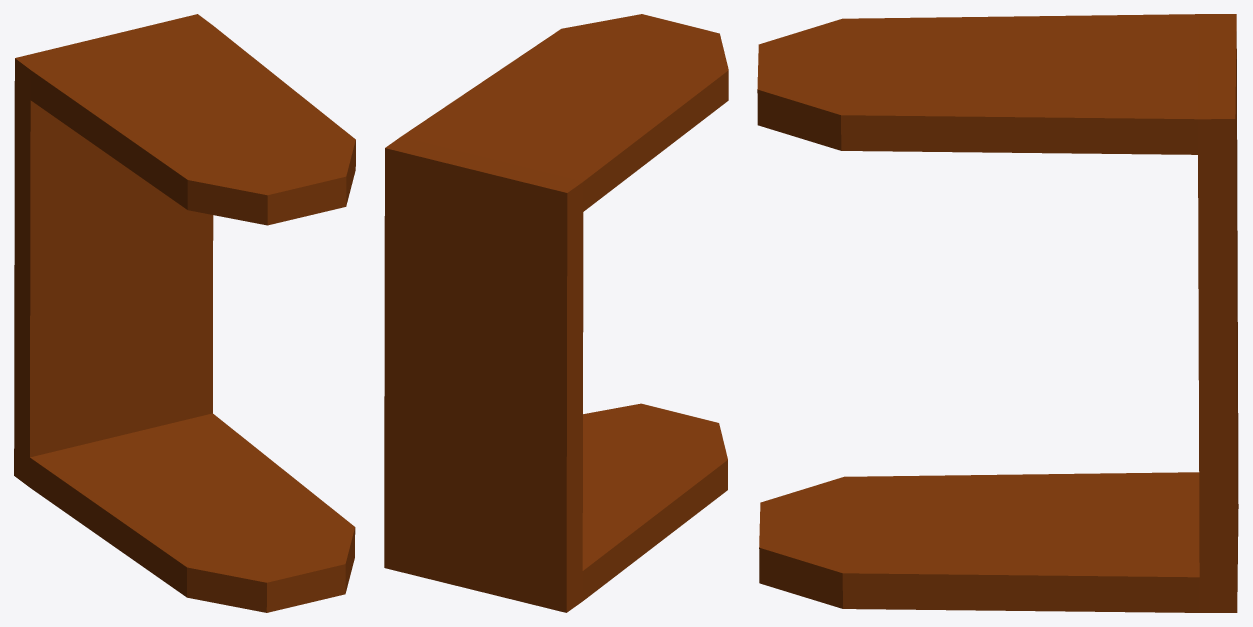
The model's file is part_14_opt_2.obj.
The picture shows the model from 3 angles, left to right: view 1: azimuth 30°, elevation 25°; view 2: azimuth 150°, elevation 25°; view 3: azimuth 270°, elevation 25°; orthographic projection. The views are drawn at different scales.
Parts seen in each view (by area): view 1: Box011; view 2: Box011; view 3: Box011.
Part boxes in pixels (x1,y1,x2,y2): Box011: (14,14,355,612); Box011: (384,14,728,612); Box011: (757,14,1238,612).
Bounding box in the file's own units: 23.42 × 51.41 × 45.25.
